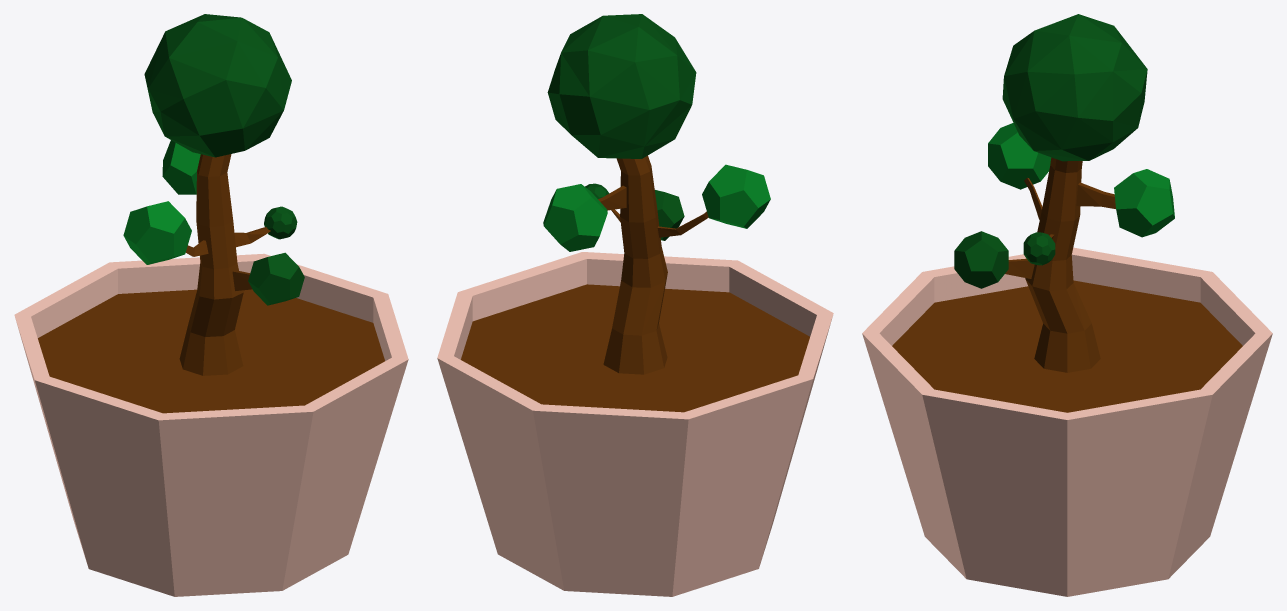
The model's file is Pflanze.fbx.
3 renders of one model, left to right at view 1: azimuth 30°, elevation 25°; view 2: azimuth 150°, elevation 25°; view 3: azimuth 270°, elevation 25°, orthographic.
Visible parts, largest first — view 1: Scheibe, Platonischer_Körper, Platonischer_Körper_2, Platonischer_Körper_4, Platonischer_Körper_3, Platonischer_Körper_1; view 2: Scheibe, Platonischer_Körper, Platonischer_Körper_2, Platonischer_Körper_3, Platonischer_Körper_4; view 3: Scheibe, Platonischer_Körper, Platonischer_Körper_3, Platonischer_Körper_2, Platonischer_Körper_4, Platonischer_Körper_1.
Part boxes in pixels (x1=…): Scheibe: x1=14, y1=154, x2=408, y2=596; Platonischer_Körper: x1=144, y1=14, x2=291, y2=157; Platonischer_Körper_2: x1=123, y1=201, x2=191, y2=264; Platonischer_Körper_4: x1=248, y1=252, x2=304, y2=305; Platonischer_Körper_3: x1=162, y1=140, x2=200, y2=194; Platonischer_Körper_1: x1=264, y1=206, x2=297, y2=239; Scheibe: x1=437, y1=155, x2=833, y2=596; Platonischer_Körper: x1=547, y1=14, x2=696, y2=158; Platonischer_Körper_2: x1=702, y1=164, x2=770, y2=228; Platonischer_Körper_3: x1=543, y1=184, x2=607, y2=251; Platonischer_Körper_4: x1=655, y1=190, x2=684, y2=240; Scheibe: x1=862, y1=157, x2=1272, y2=596; Platonischer_Körper: x1=1002, y1=14, x2=1147, y2=161; Platonischer_Körper_3: x1=1114, y1=169, x2=1174, y2=237; Platonischer_Körper_2: x1=988, y1=123, x2=1051, y2=189; Platonischer_Körper_4: x1=954, y1=231, x2=1008, y2=288; Platonischer_Körper_1: x1=1023, y1=232, x2=1055, y2=265.
Bounding box in the file's own units: 162 × 225 × 162.
